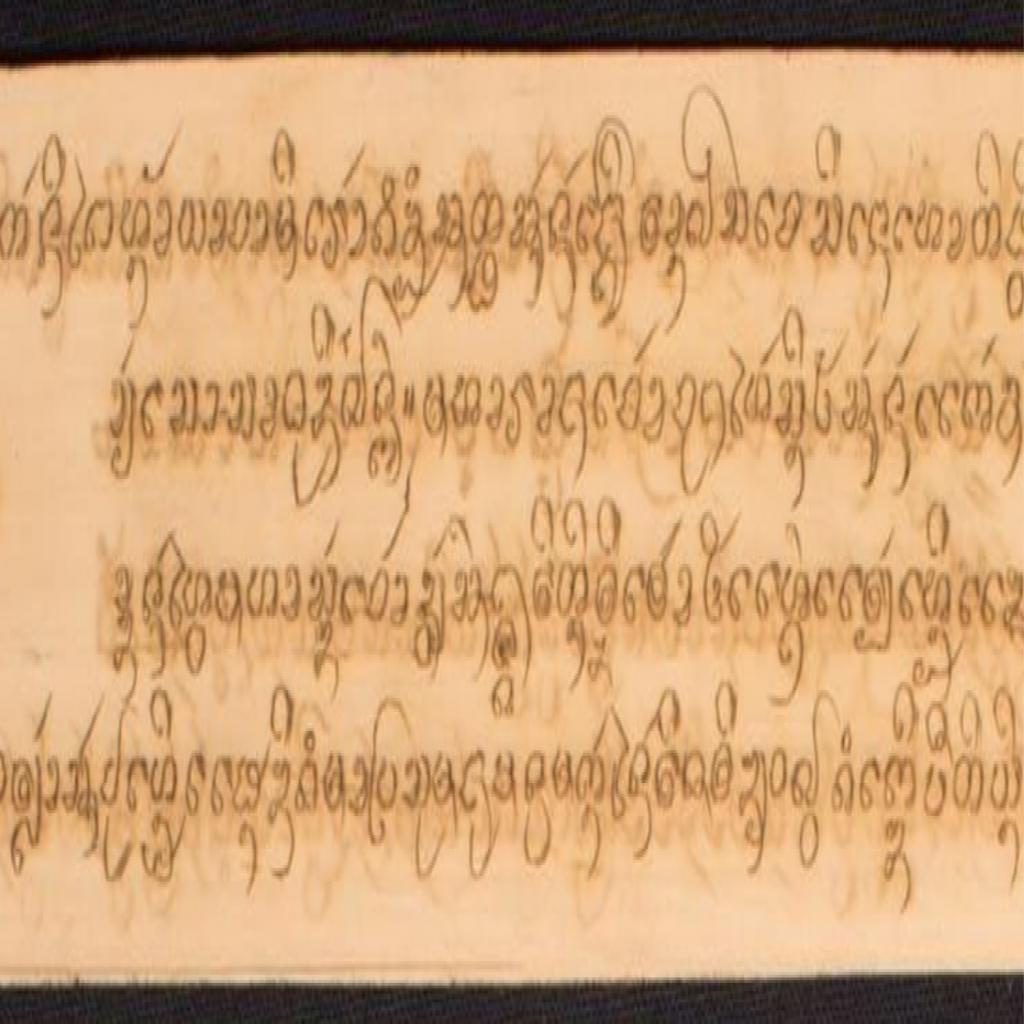LN026: (233, 748, 268, 821)
